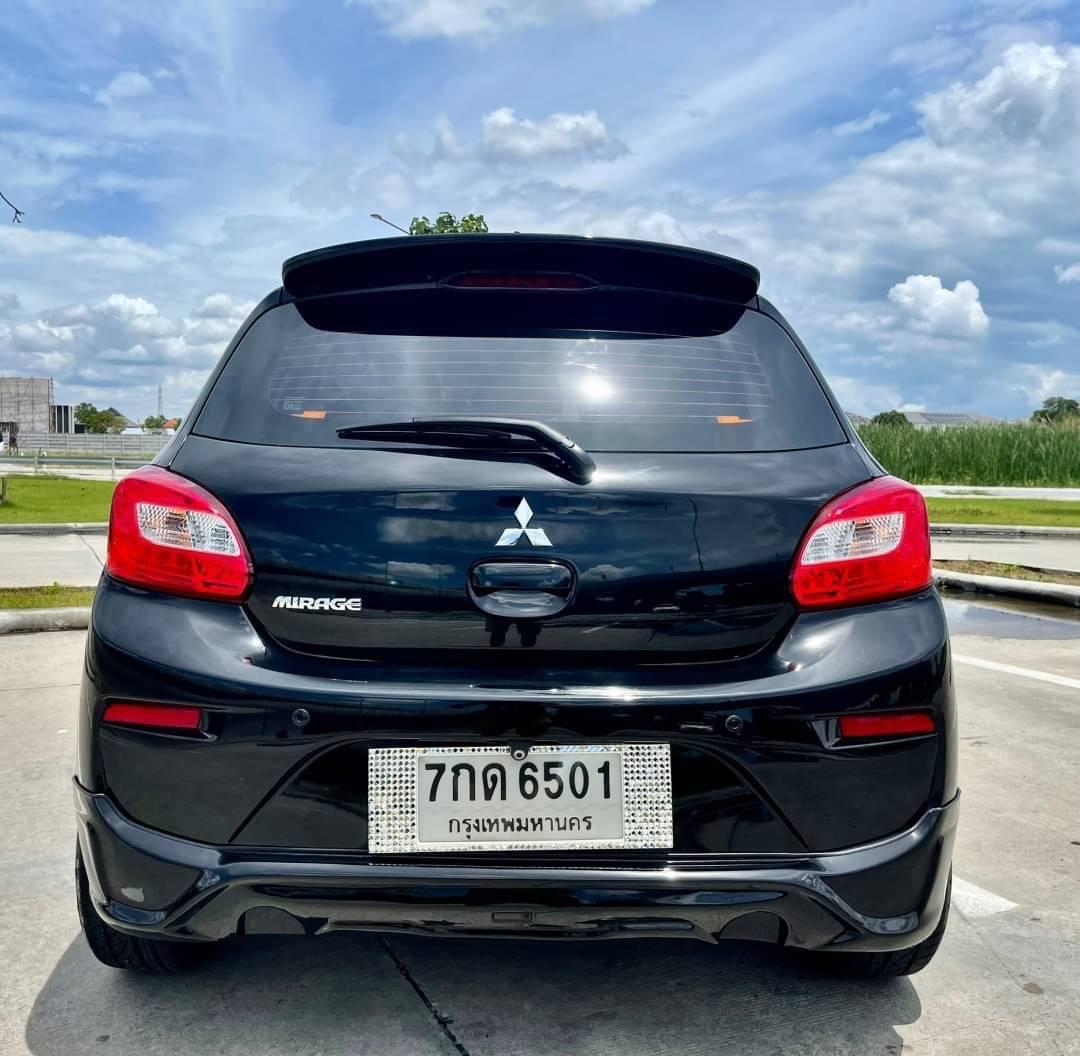license-plate: (412, 748, 628, 851)
